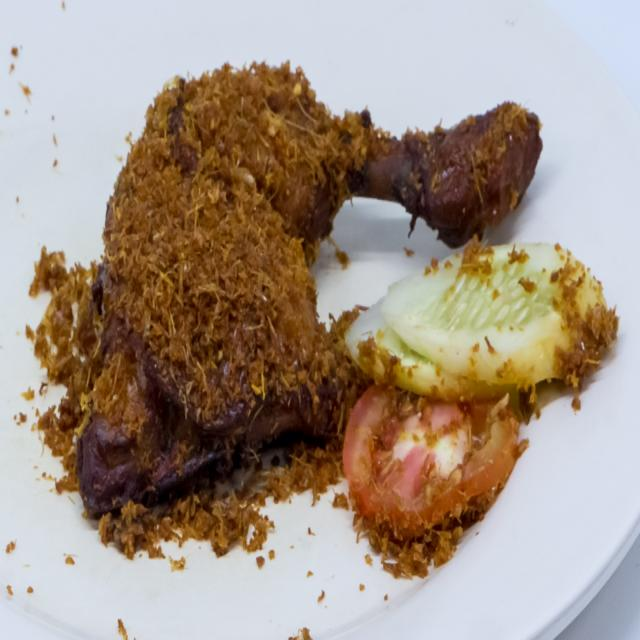Ayam-Goreng-Lengkuas: (67, 43, 556, 547)
